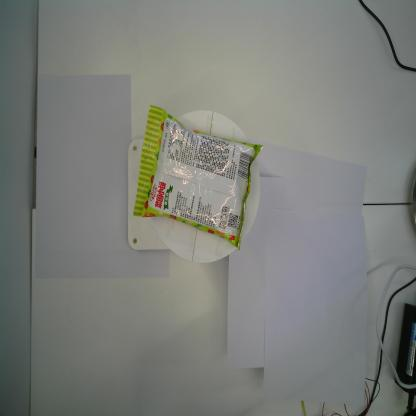Puffed Food: (131, 103, 263, 252)
